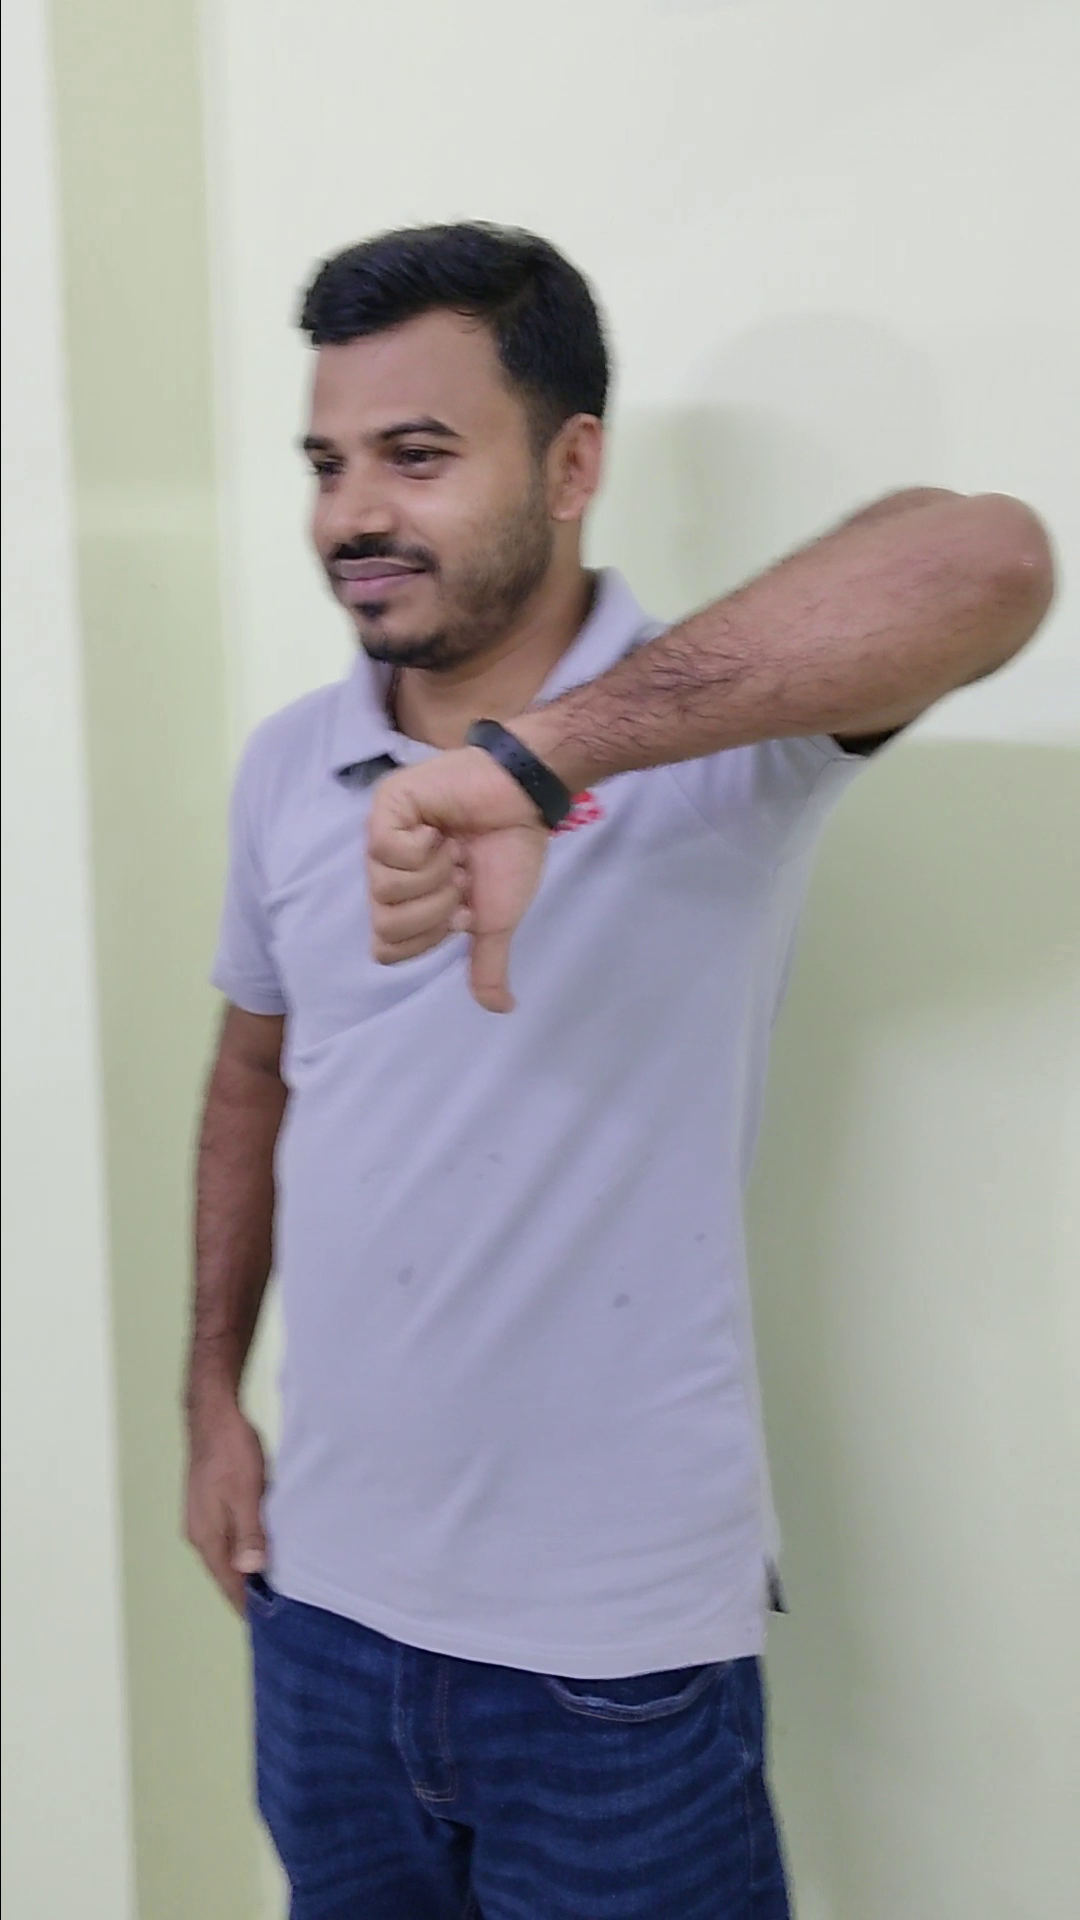Dislike: (342, 705, 571, 1030)
None: (152, 1348, 298, 1640)
